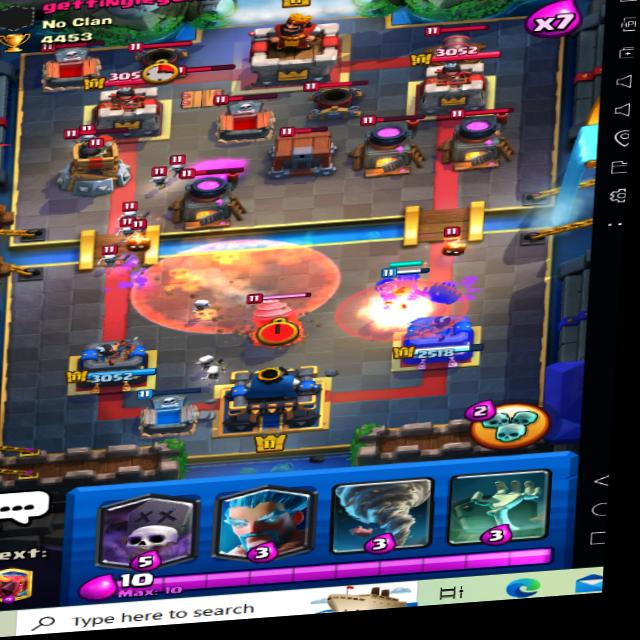Bombtower: (57, 120, 136, 200)
Cannon: (418, 19, 496, 70)
Firespirit: (435, 229, 475, 264), (124, 225, 157, 255)
Furnace: (437, 99, 528, 177), (347, 108, 427, 181), (167, 161, 248, 230)
Goblincage: (267, 120, 340, 182)
Goblindrill: (232, 283, 328, 349)
Mortar: (127, 27, 200, 80), (299, 75, 367, 125)
Skeleton: (90, 239, 125, 274), (110, 217, 142, 250), (147, 164, 182, 193), (162, 151, 195, 181), (70, 122, 103, 149), (113, 202, 146, 226)
Teslahidden: (161, 58, 240, 114)
Tombstone: (29, 27, 118, 92), (207, 89, 283, 145)
